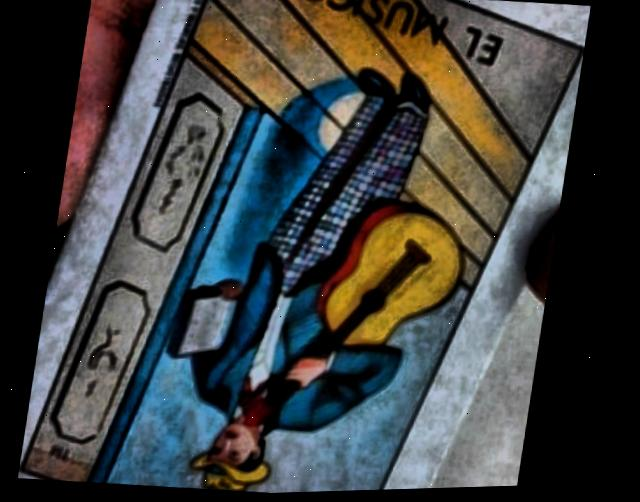El Musico: (25, 0, 580, 495)
